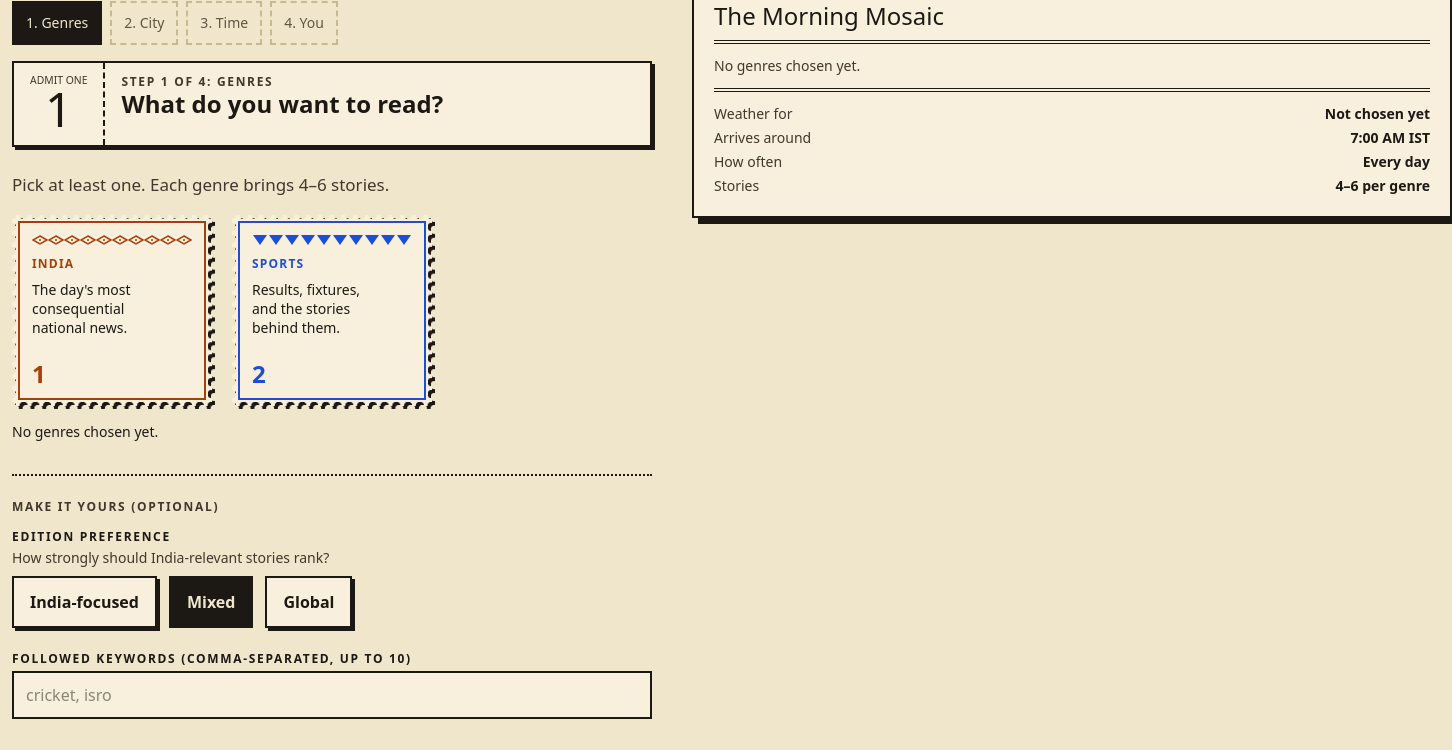
it: SubscribePage › steps › requires a city chosen from the list
Click the checkbox labelled "1 India The day's most consequential national news.": (112, 311) [12,216,212,406]
(page scrolled)
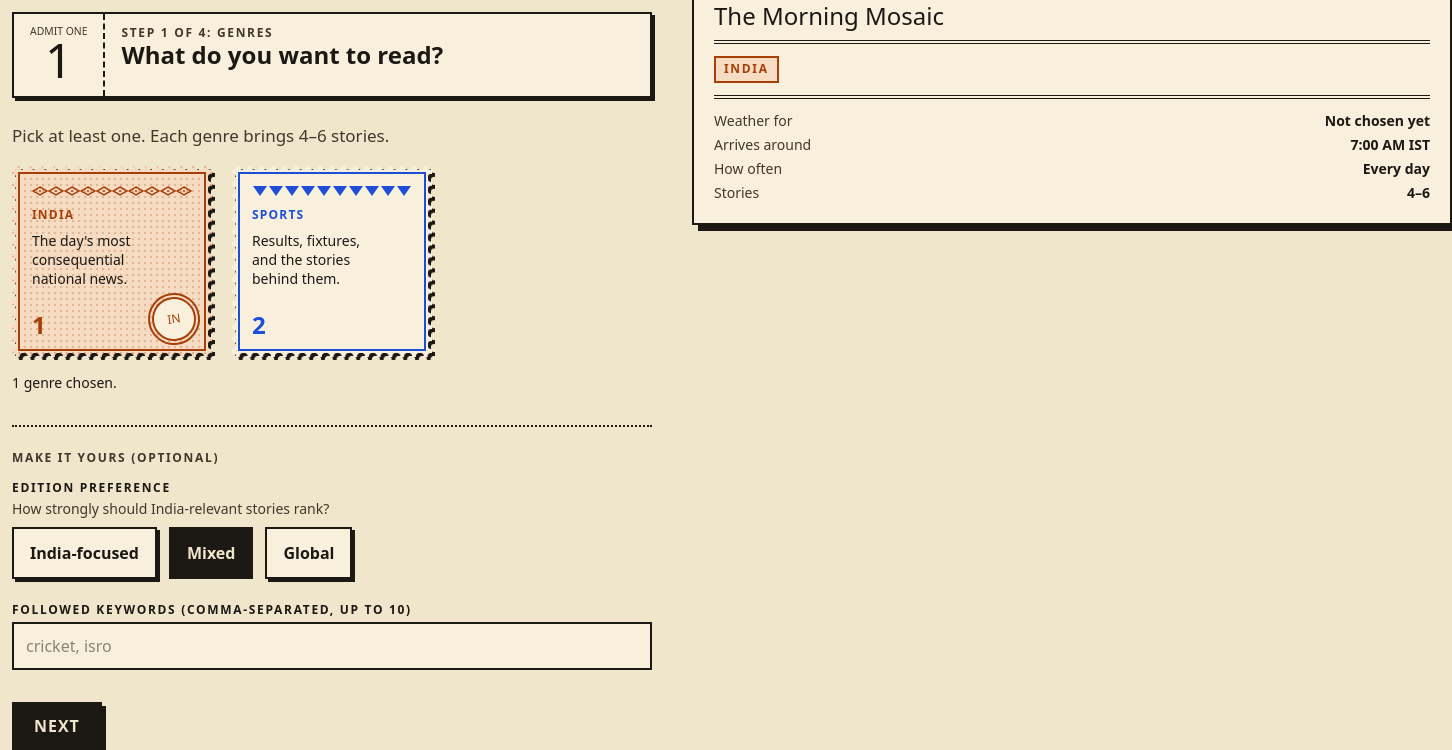
Click the button "Next": (57, 726) [12,702,102,749]
(page scrolled)
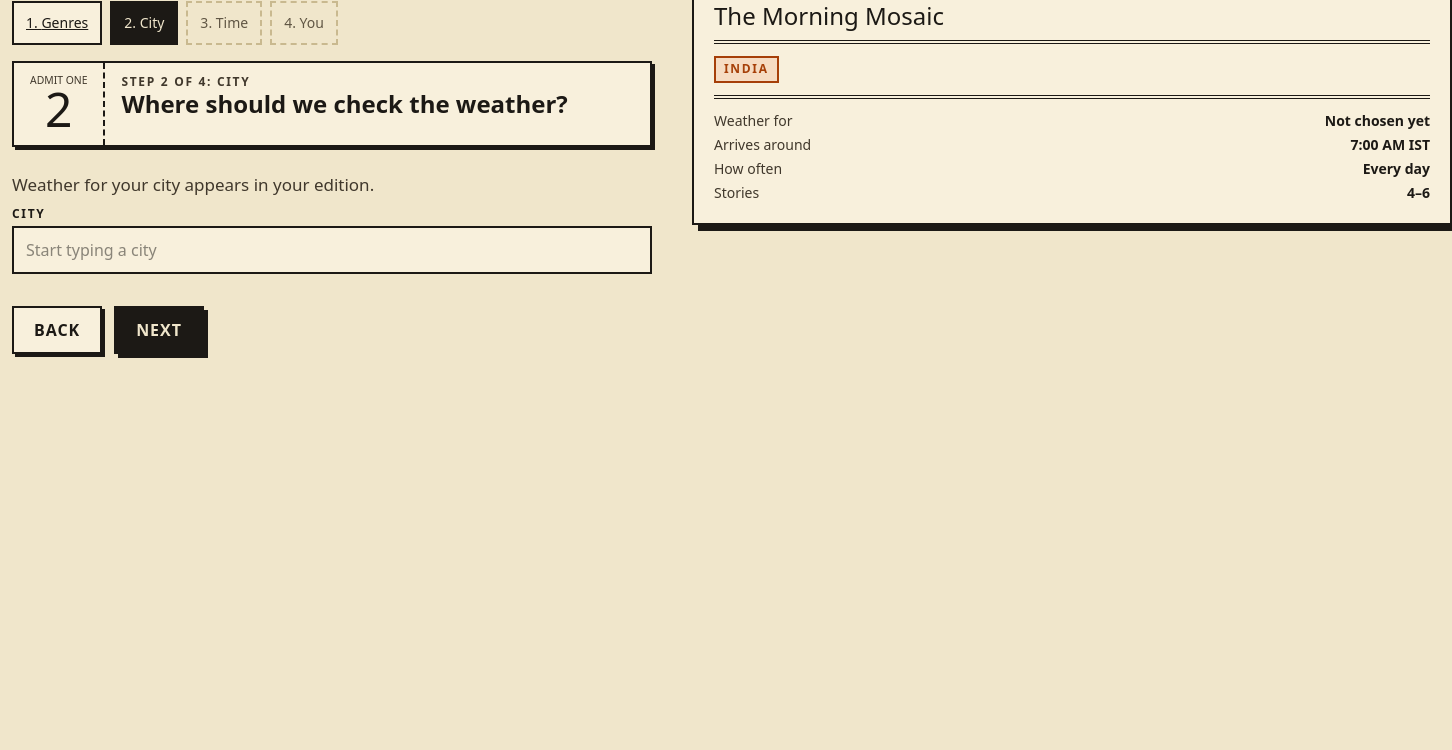
In the dropdown labelled "City": (332, 250) [12,226,652,274], type "Atlantis"
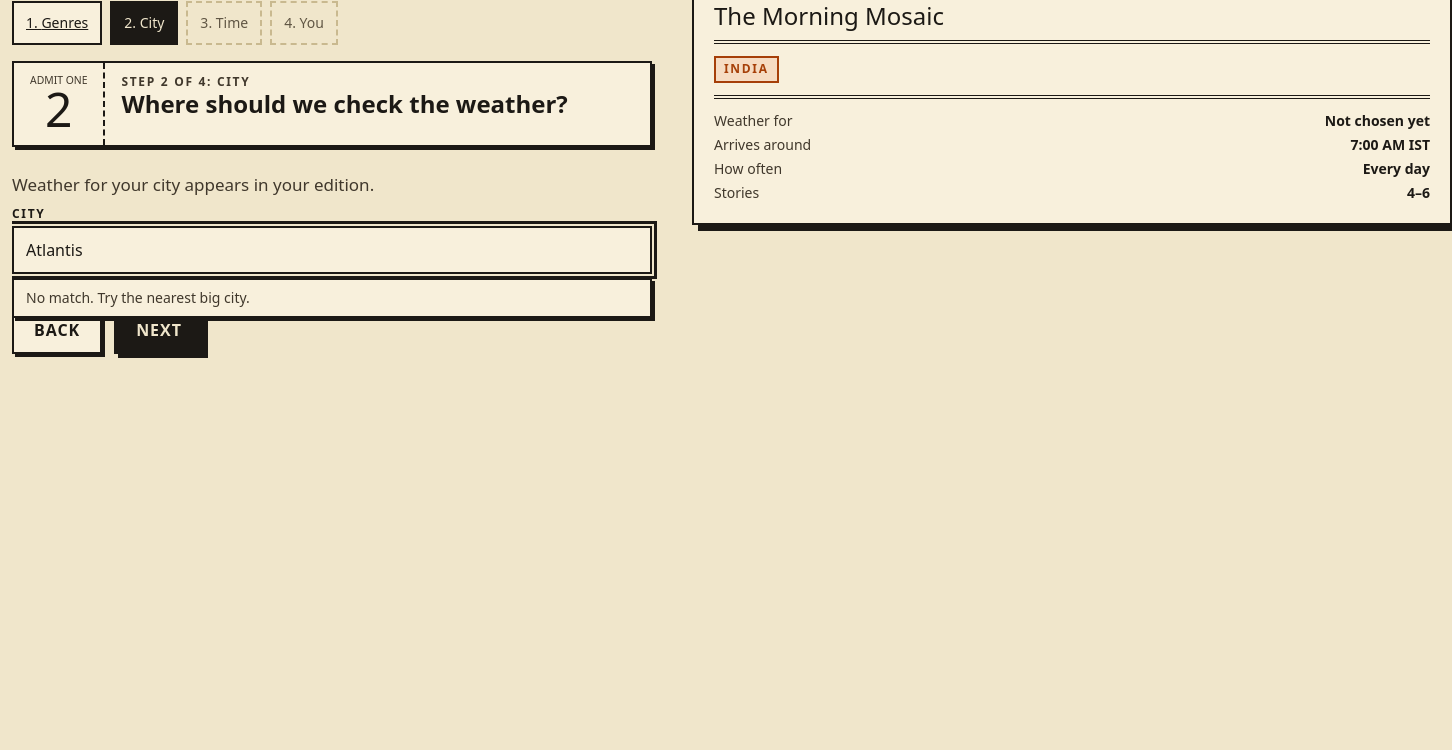
Click the button "Next": (159, 330) [114,306,204,354]
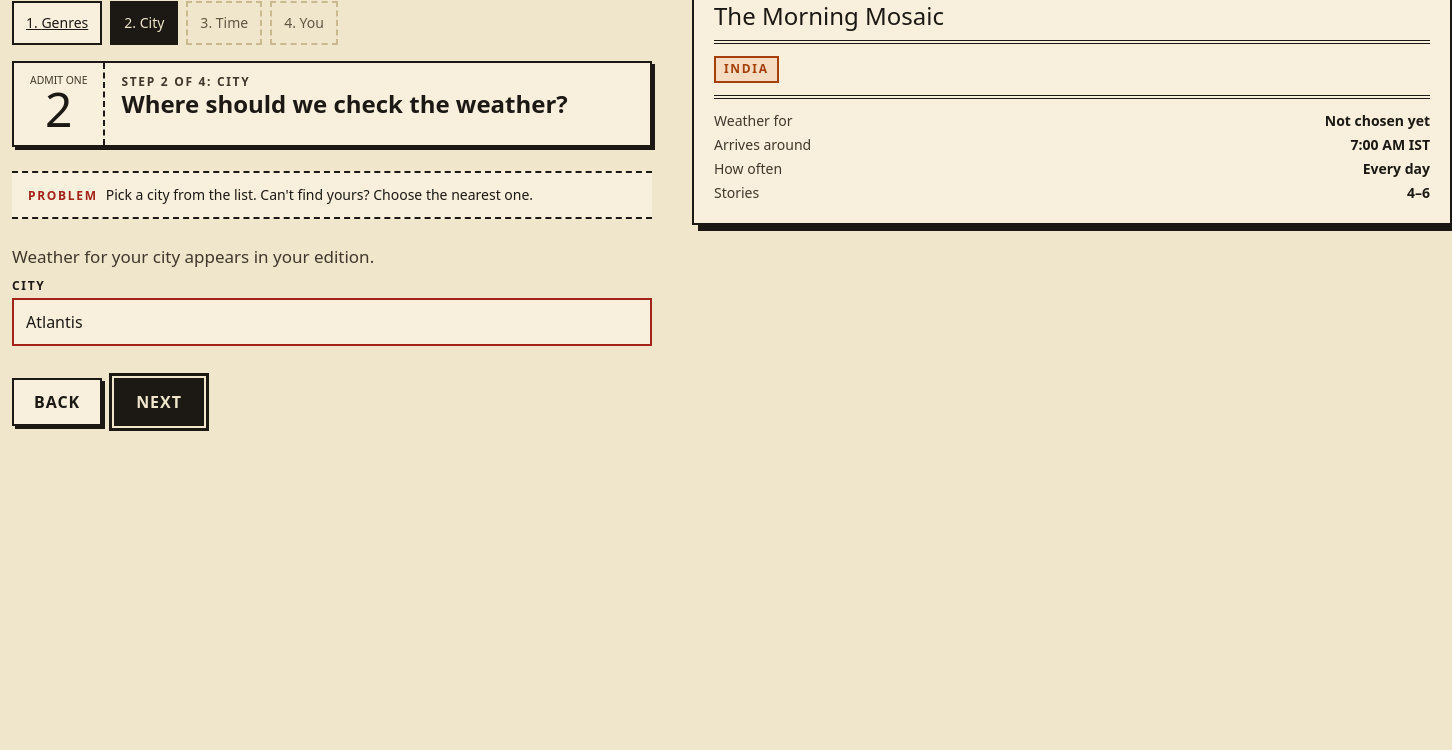
Now the message shows "Pick a city from the list.", box [106,185,533,204]
